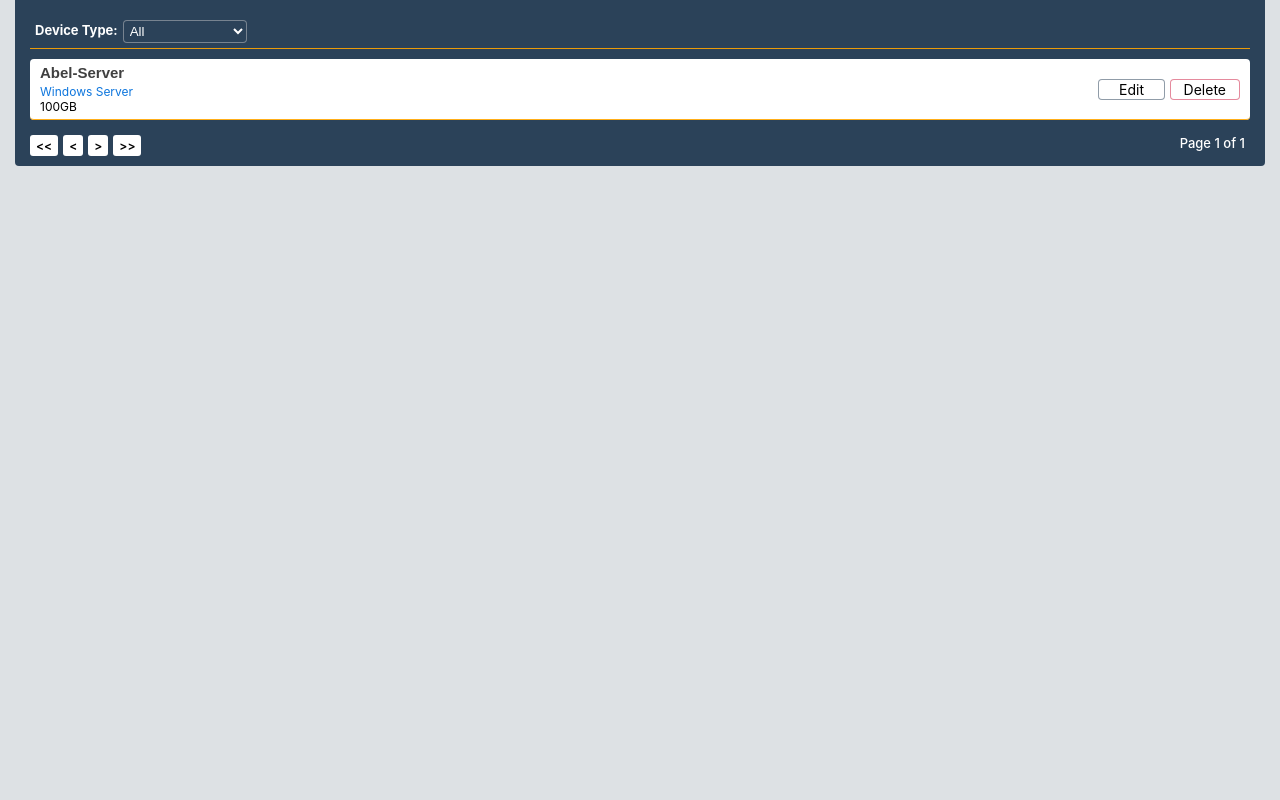
Renders Device table components › clicks delete row and renders popup
Click the button with test id "devices-table-delete-button" at x=1205, y=90, box [1170,79,1240,100]
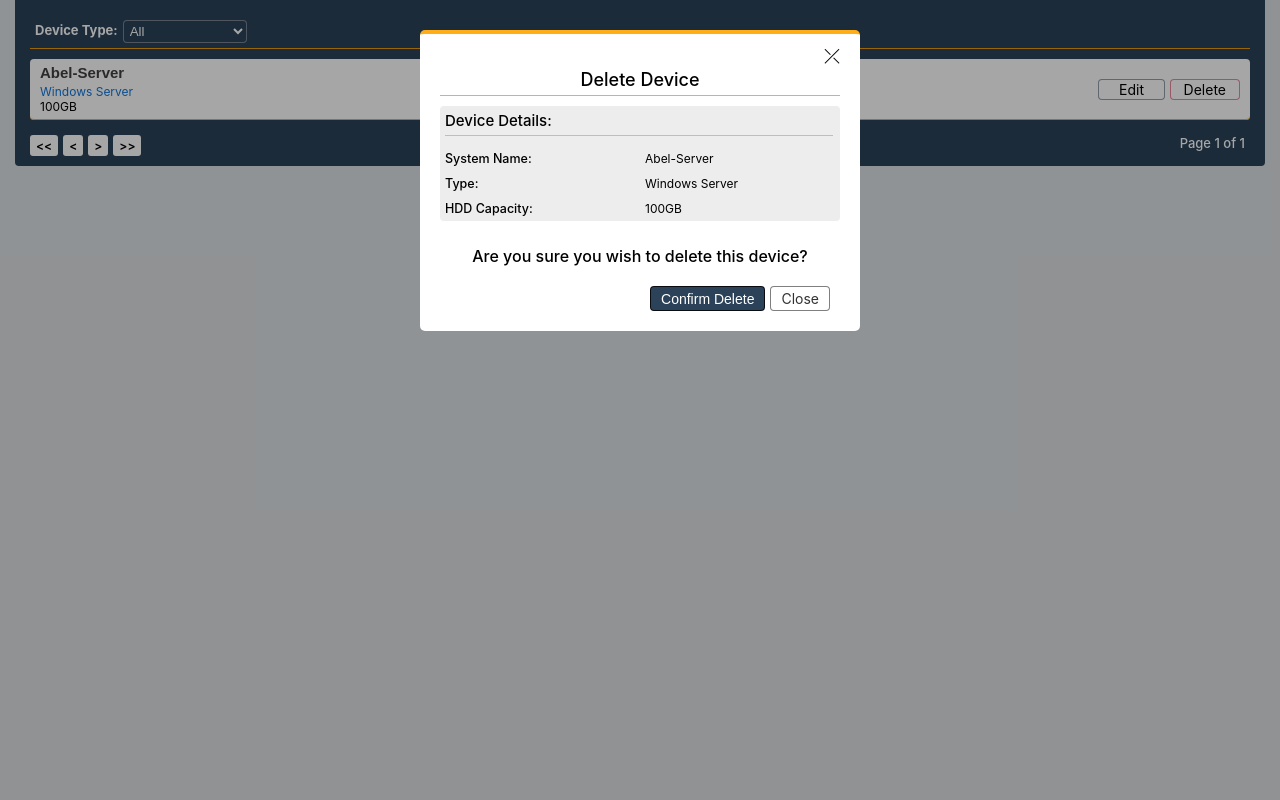
Now the element with test id "delete-device-popup" is shown, box [420,30,860,331]
